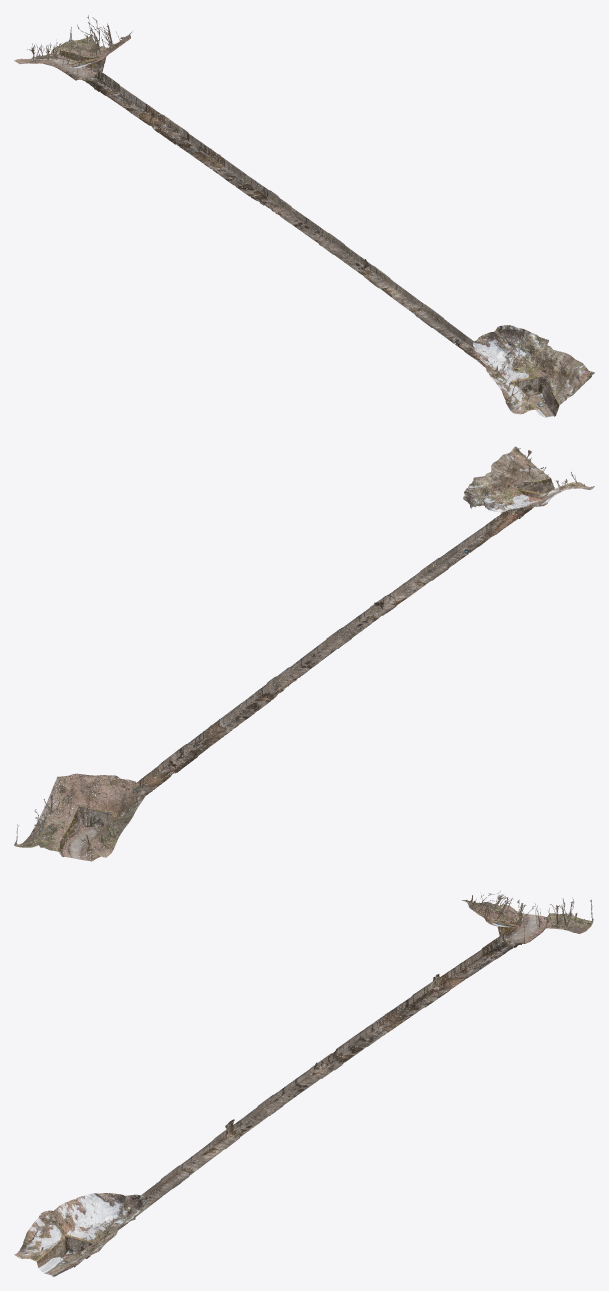
The model's file is futatsugoya_tunnel_abandoned_road_japan.glb.
The picture shows the model from 3 angles, top to bottom: view 1: azimuth 30°, elevation 25°; view 2: azimuth 150°, elevation 25°; view 3: azimuth 330°, elevation 25°; orthographic projection.
Visible parts, largest first — view 1: Object_6, Object_2, Object_9, Object_10, Object_8, Object_12, Object_7, Object_4, Object_5, Object_13, Object_11, Object_14; view 2: Object_2, Object_9, Object_6, Object_7, Object_4, Object_12, Object_10, Object_8, Object_5, Object_13, Object_11, Object_14; view 3: Object_2, Object_6, Object_9, Object_12, Object_7, Object_4, Object_8, Object_10, Object_5, Object_13, Object_11, Object_14.
Part boxes in pixels (box(x1,y1,x2,y2)): Object_6: box(17, 17, 591, 416); Object_2: box(17, 15, 594, 417); Object_9: box(18, 23, 590, 413); Object_10: box(14, 16, 594, 417); Object_8: box(22, 27, 587, 414); Object_12: box(26, 32, 589, 413); Object_7: box(24, 28, 591, 416); Object_4: box(20, 28, 591, 415); Object_5: box(27, 27, 589, 413); Object_13: box(15, 29, 588, 414); Object_11: box(23, 22, 589, 413); Object_14: box(22, 29, 593, 415); Object_2: box(15, 447, 589, 859); Object_9: box(14, 448, 583, 857); Object_6: box(17, 448, 593, 860); Object_7: box(19, 449, 584, 859); Object_4: box(38, 449, 585, 857); Object_12: box(35, 452, 574, 859); Object_10: box(17, 446, 584, 861); Object_8: box(14, 453, 594, 855); Object_5: box(17, 452, 587, 860); Object_13: box(22, 453, 590, 857); Object_11: box(24, 451, 587, 859); Object_14: box(26, 447, 592, 856); Object_2: box(19, 890, 593, 1273); Object_6: box(15, 893, 592, 1276); Object_9: box(24, 897, 592, 1271); Object_12: box(19, 893, 592, 1271); Object_7: box(20, 895, 589, 1275); Object_4: box(22, 895, 590, 1272); Object_8: box(14, 899, 584, 1263); Object_10: box(23, 894, 591, 1274); Object_5: box(21, 892, 573, 1273); Object_13: box(18, 897, 576, 1270); Object_11: box(21, 897, 579, 1268); Object_14: box(16, 894, 590, 1276).
Size of the model in its own units: 40.37 by 19.13 by 417.
12 materials, 12 textured.
